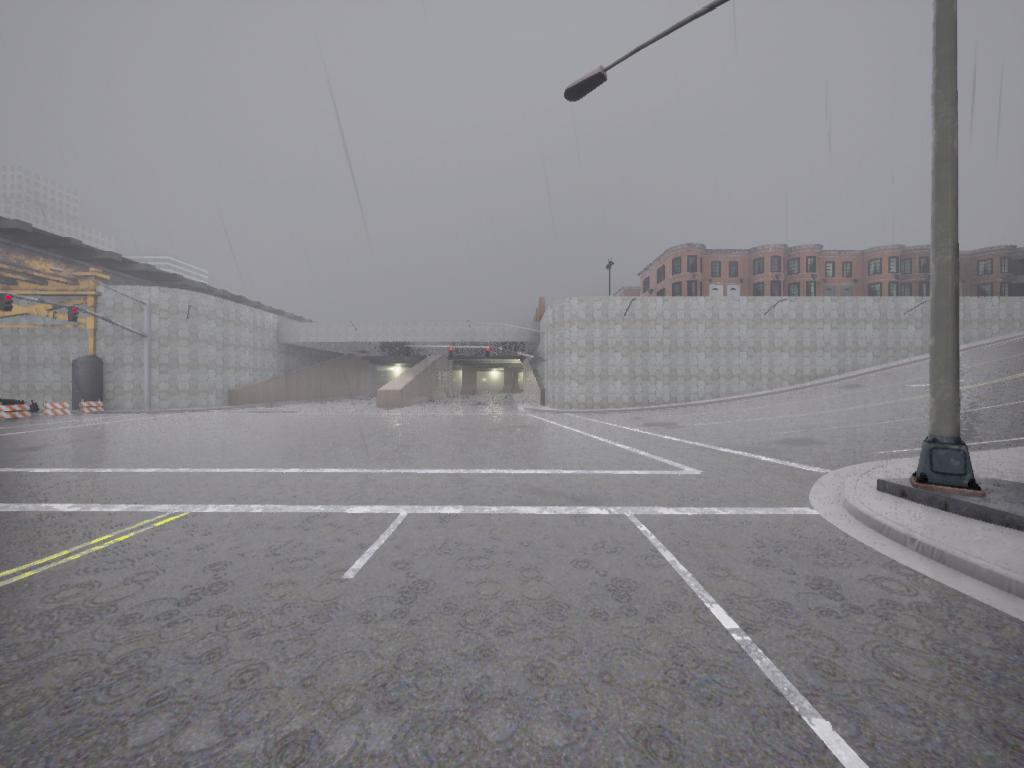traffic_light: (70, 303, 81, 328), (1, 294, 14, 312), (448, 347, 455, 359), (485, 347, 491, 359), (406, 346, 411, 359)
